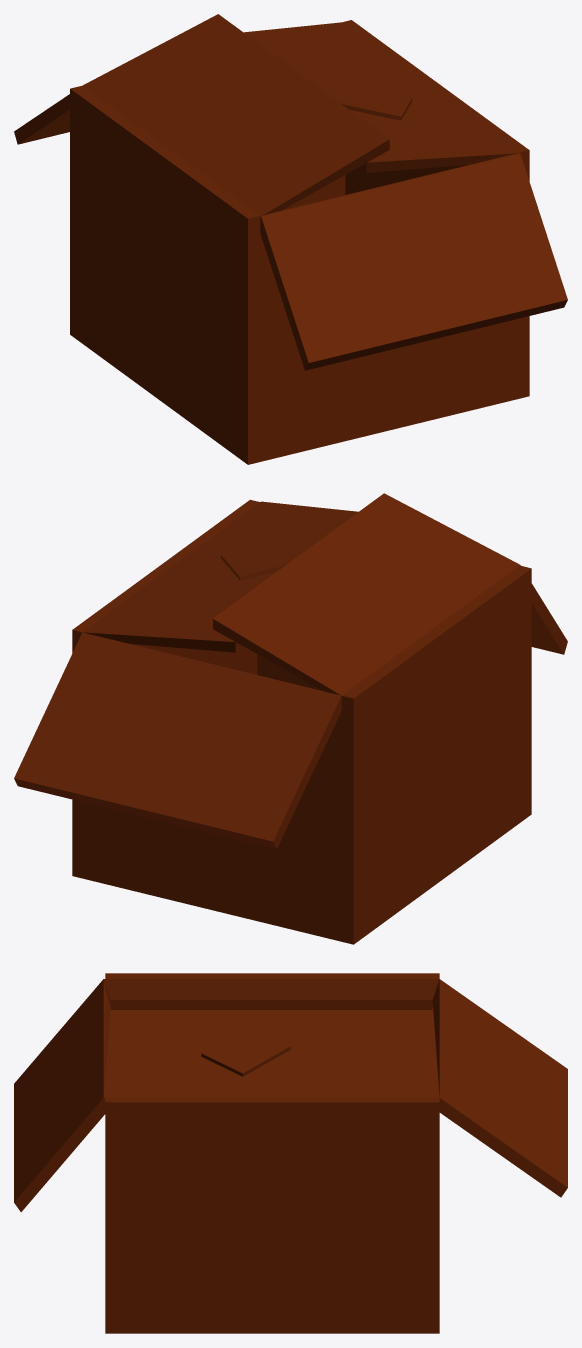
File: boxWithNoteKEY.fbx
The picture shows the model from 3 angles, top to bottom: view 1: azimuth 30°, elevation 25°; view 2: azimuth 150°, elevation 25°; view 3: azimuth 270°, elevation 25°; orthographic projection. The views are drawn at different scales.
Parts seen in each view (by area): view 1: Cube; view 2: Cube; view 3: Cube.
Part boxes in pixels (x1,y1,x2,y2): Cube: [14, 14, 567, 464]; Cube: [14, 493, 567, 944]; Cube: [14, 973, 567, 1333].
Size of the model in its own units: 407 by 398 by 739.
